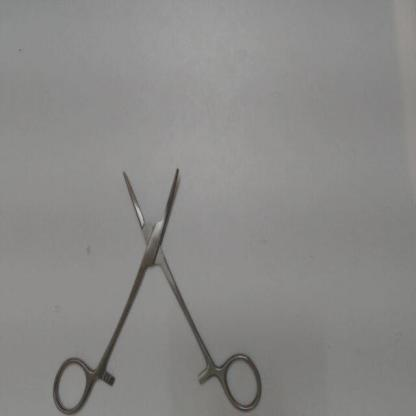Crile Artery Forceps: (49, 155, 265, 415)
